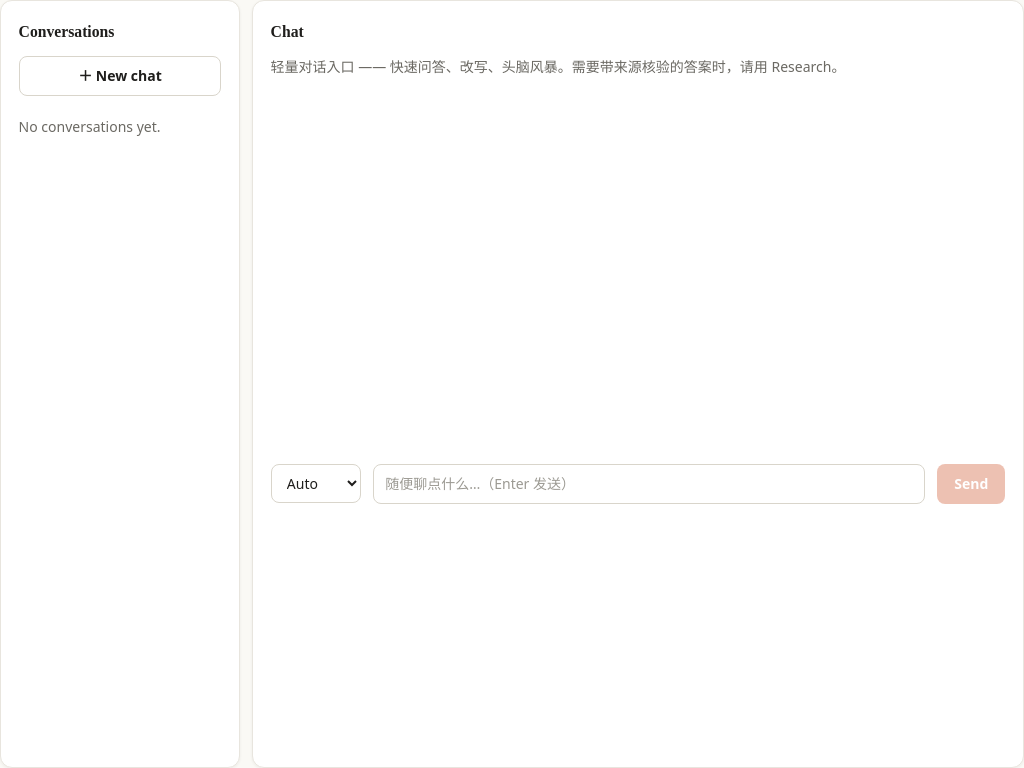
Test: Chat page (S28) › sends a turn, streams the reply, and lists the conversation
The width and height of the screenshot is (1024, 768).
Type "固态电池是什么？" into the field with placeholder "随便聊点什么…（Enter 发送）" at (649, 484), box [373,464,925,504]
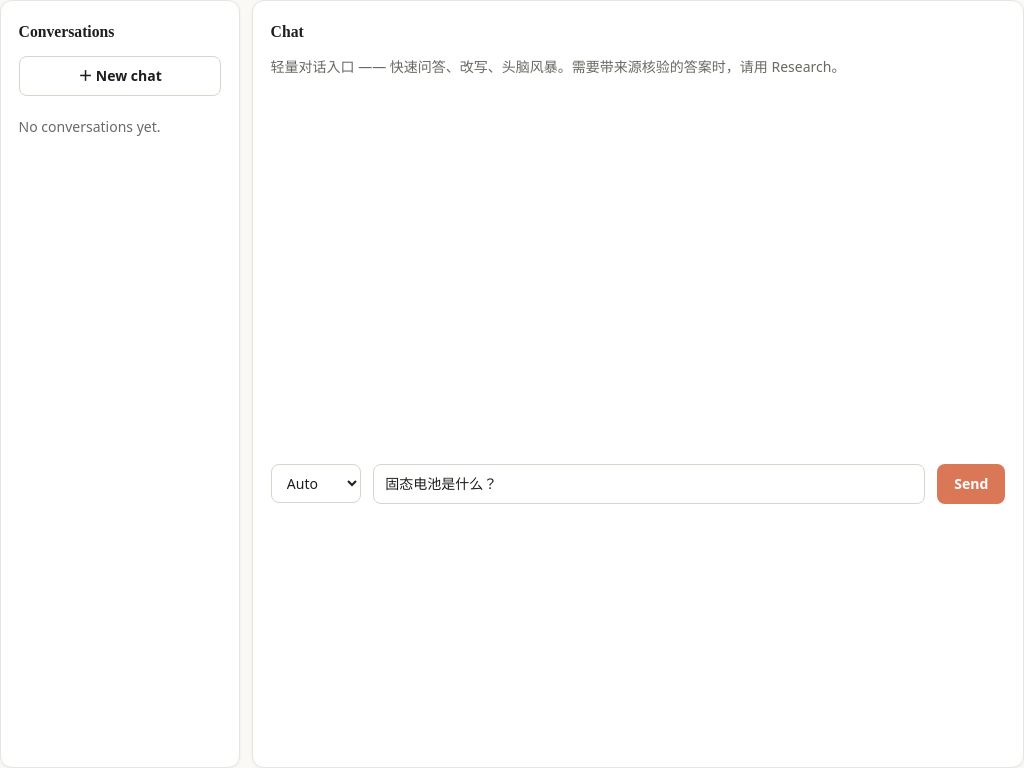
Click the button "Send" at (971, 484), box [937,464,1005,504]
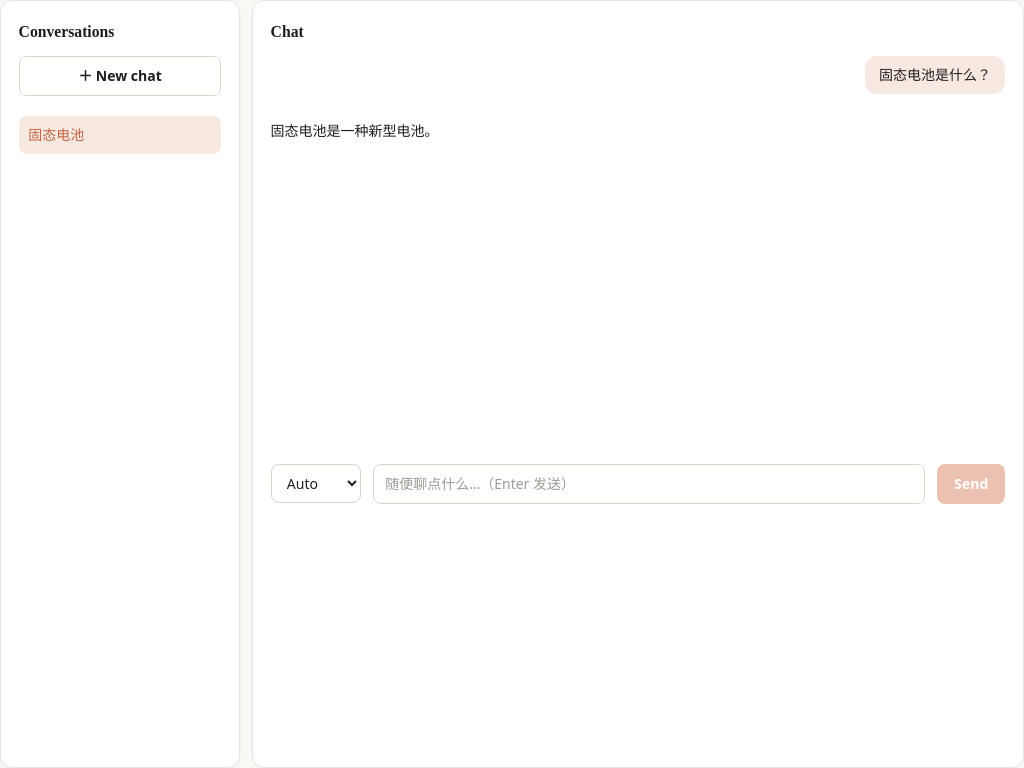
Expected: the text "固态电池是一种新型电池。" is shown, [271,121,439,140]
Expected: the text "固态电池" is shown, [28,124,84,146]
